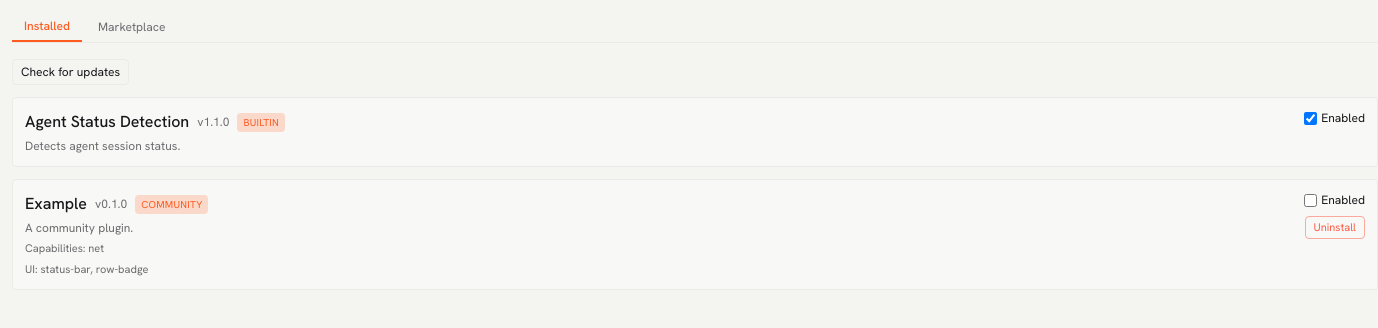
Test: PluginsSettings › Check for updates surfaces a per-plugin check error
Click the button with test id "plugins-check-updates".
click(71, 72)  # box [12,59,129,85]
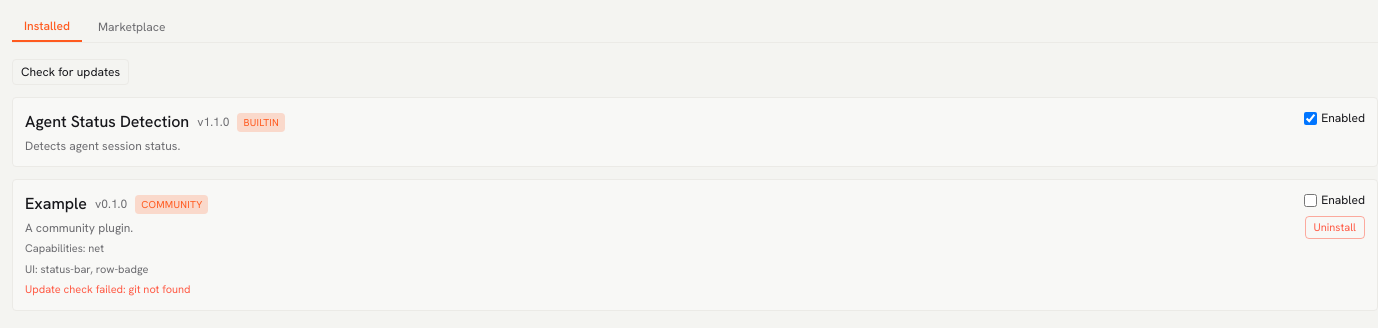
expect the text "Update check failed: git not found" is shown: met, box [25,281,208,298]
